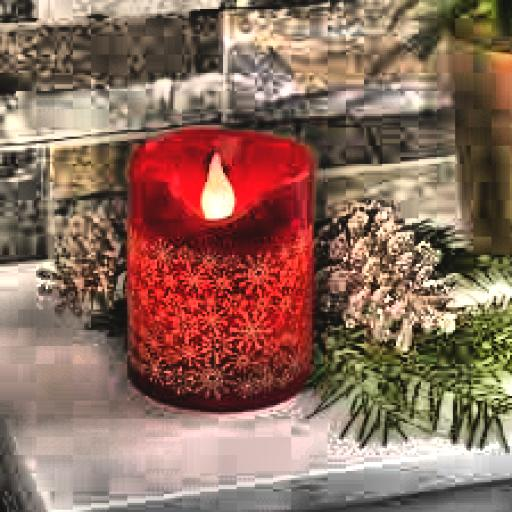fire: (196, 143, 236, 223)
